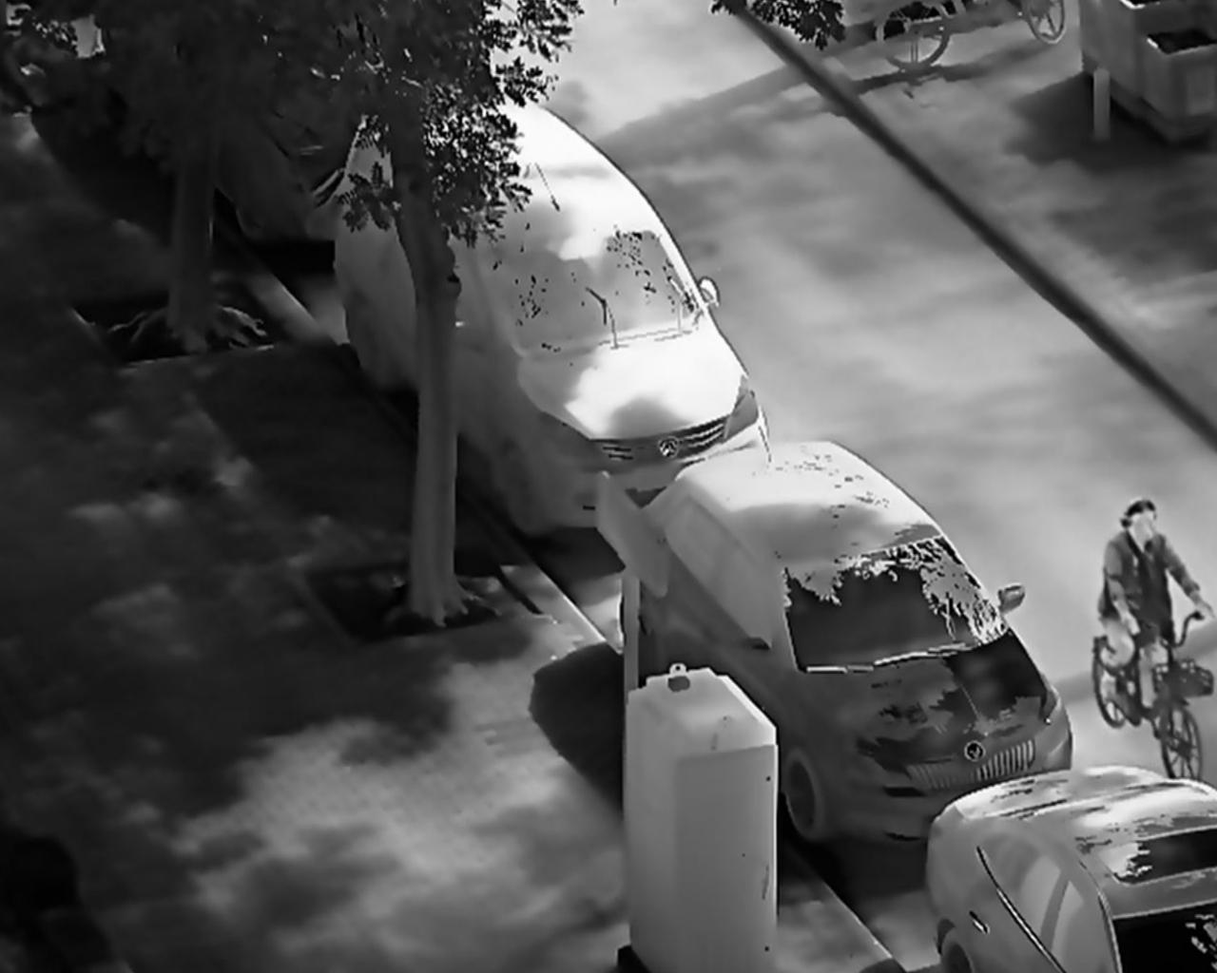person: (1095, 494, 1217, 711)
